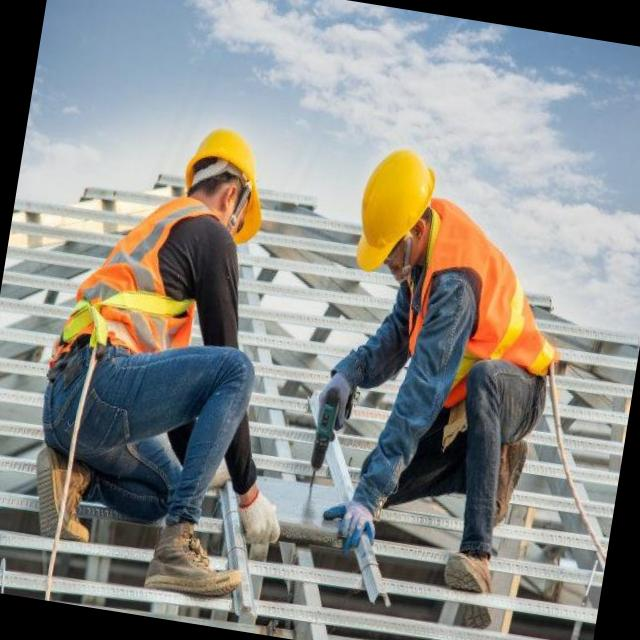Gloves: (318, 488, 379, 553), (304, 368, 356, 436), (232, 496, 286, 548)
Helmet: (351, 154, 442, 278), (182, 120, 278, 236)
Vest: (53, 196, 239, 364)
